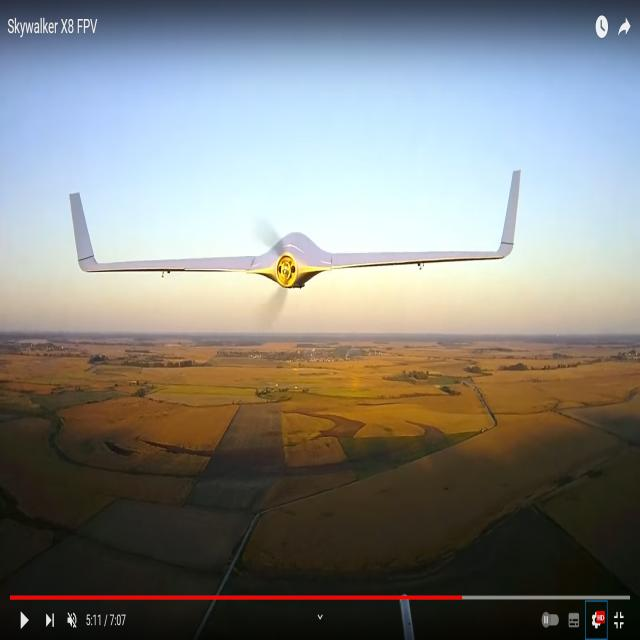iha: (66, 216, 526, 251)
